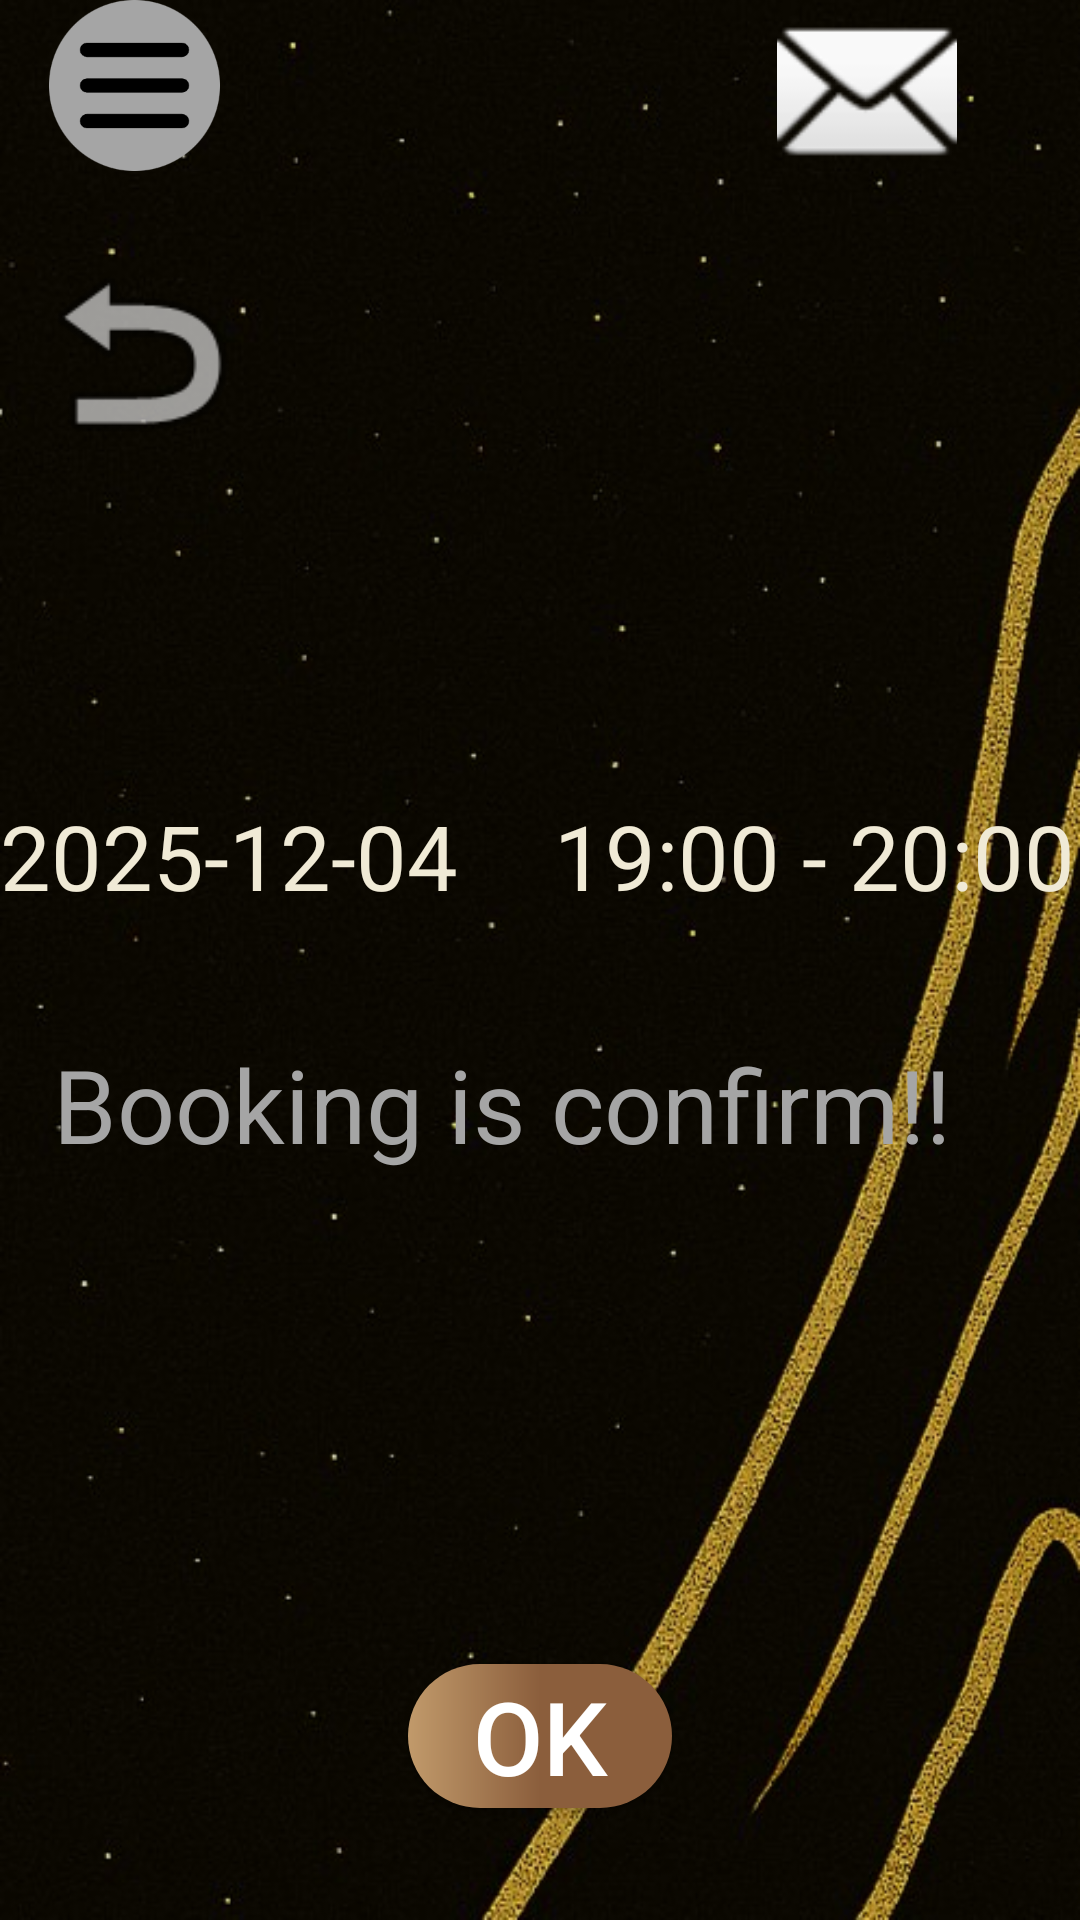

Where icons sit on this 1080x1920 app screen, as (x1, y1, x2, y2):
burger menu: (49, 0, 220, 171)
email: (734, 27, 974, 156)
revert: (64, 248, 246, 425)
